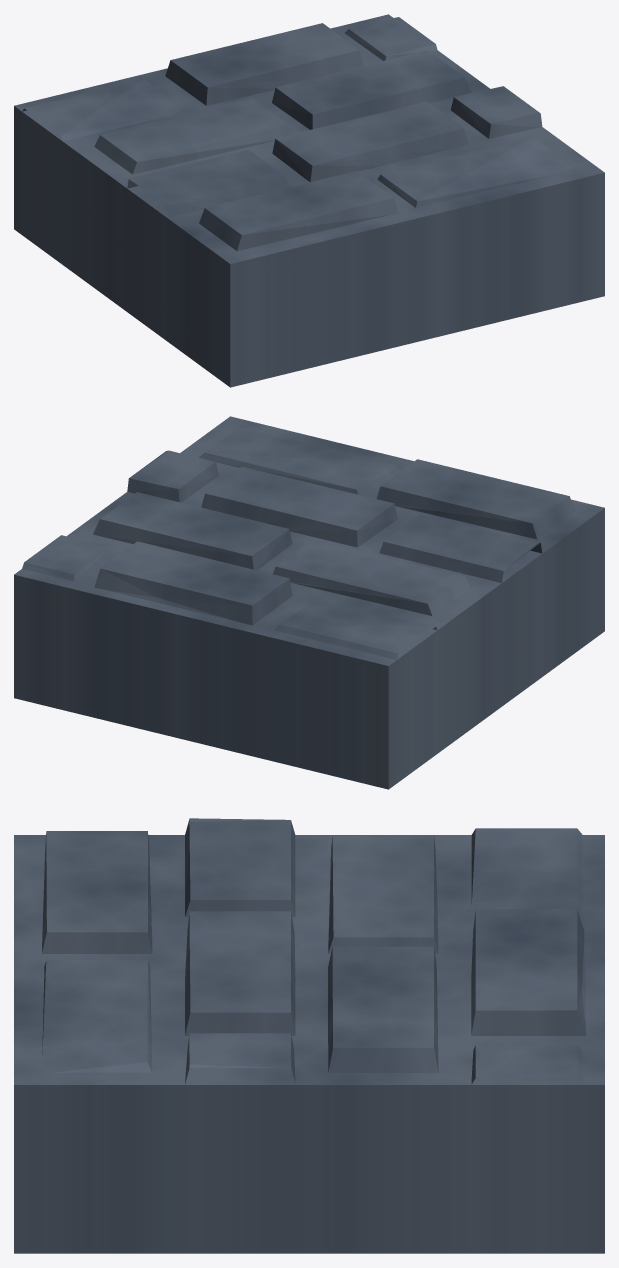
File: BricksTile5.glb
3 views of the same model, one above another, from view 1: azimuth 30°, elevation 25°; view 2: azimuth 150°, elevation 25°; view 3: azimuth 270°, elevation 25° (orthographic). The views are drawn at different scales.
Parts seen in each view (by area): view 1: BricksTile5; view 2: BricksTile5; view 3: BricksTile5.
Boxes of the visible parts, x1=… form: BricksTile5: x1=14, y1=14, x2=604, y2=387; BricksTile5: x1=14, y1=416, x2=604, y2=789; BricksTile5: x1=14, y1=818, x2=604, y2=1253.
Bounding box in the file's own units: 2 × 0.7184 × 2.
Materials: 1 (1 with a texture image).
